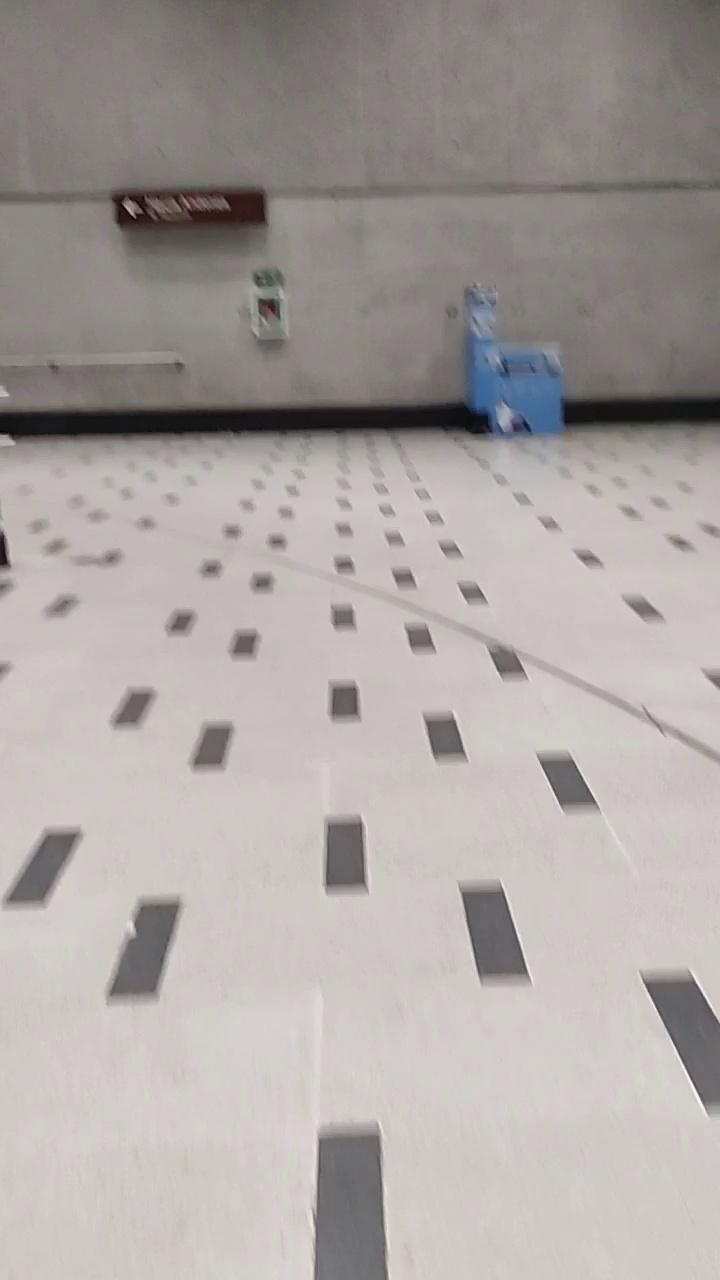left arrow: (120, 195, 150, 221)
